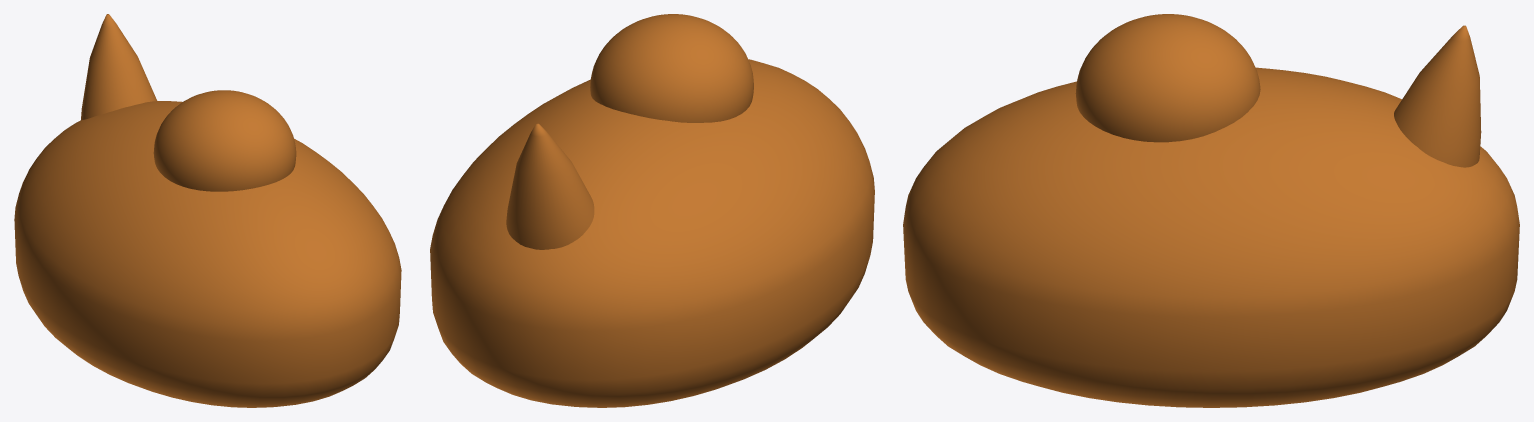
The model's file is static.glb.
The picture shows the model from 3 angles, left to right: view 1: azimuth 30°, elevation 25°; view 2: azimuth 150°, elevation 25°; view 3: azimuth 270°, elevation 25°; orthographic projection. The views are drawn at different scales.
Visible parts, largest first — view 1: Body, Neck, Tail; view 2: Body, Neck, Tail; view 3: Body, Neck, Tail.
Boxes of the visible parts, box(x1,y1,x2,y2) form: Body: box(14, 101, 401, 407); Neck: box(153, 90, 296, 191); Tail: box(81, 14, 157, 120); Body: box(430, 59, 874, 407); Neck: box(590, 14, 753, 122); Tail: box(506, 123, 594, 249); Body: box(903, 67, 1519, 407); Neck: box(1075, 14, 1260, 142); Tail: box(1394, 25, 1481, 167).
Size of the model in its own units: 0.712 by 0.585 by 1.
Materials: 3 (3 with a texture image).
